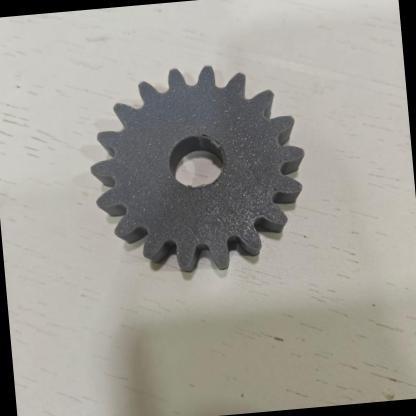gear: (73, 40, 339, 296)
